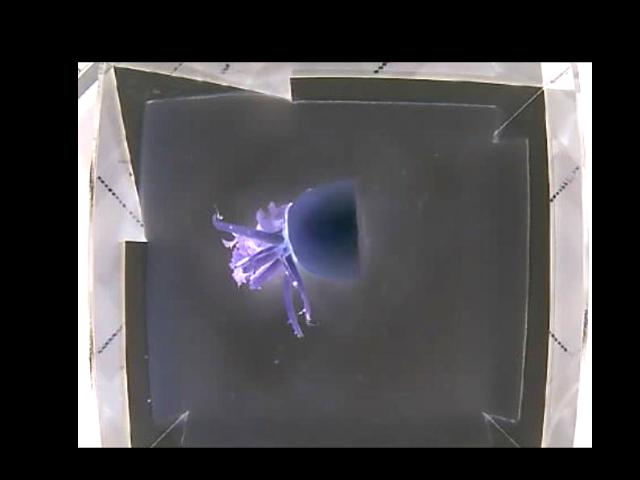Mooli: (220, 181, 363, 303)
